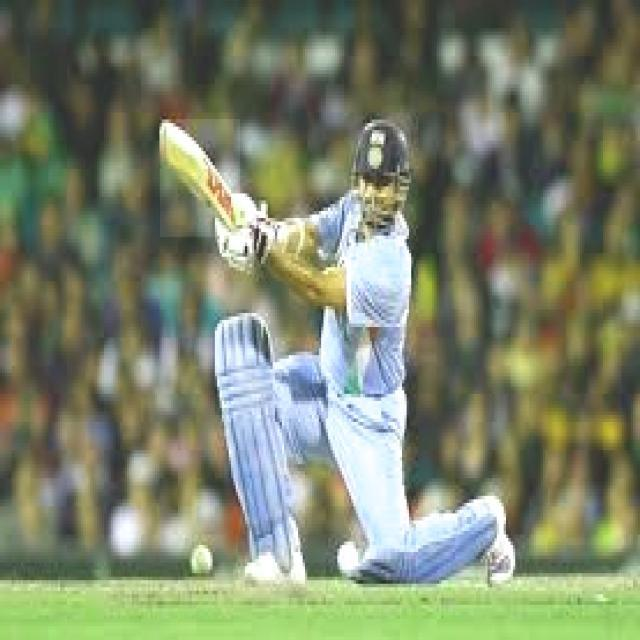bat: (156, 120, 244, 241)
toe: (139, 114, 190, 165)
